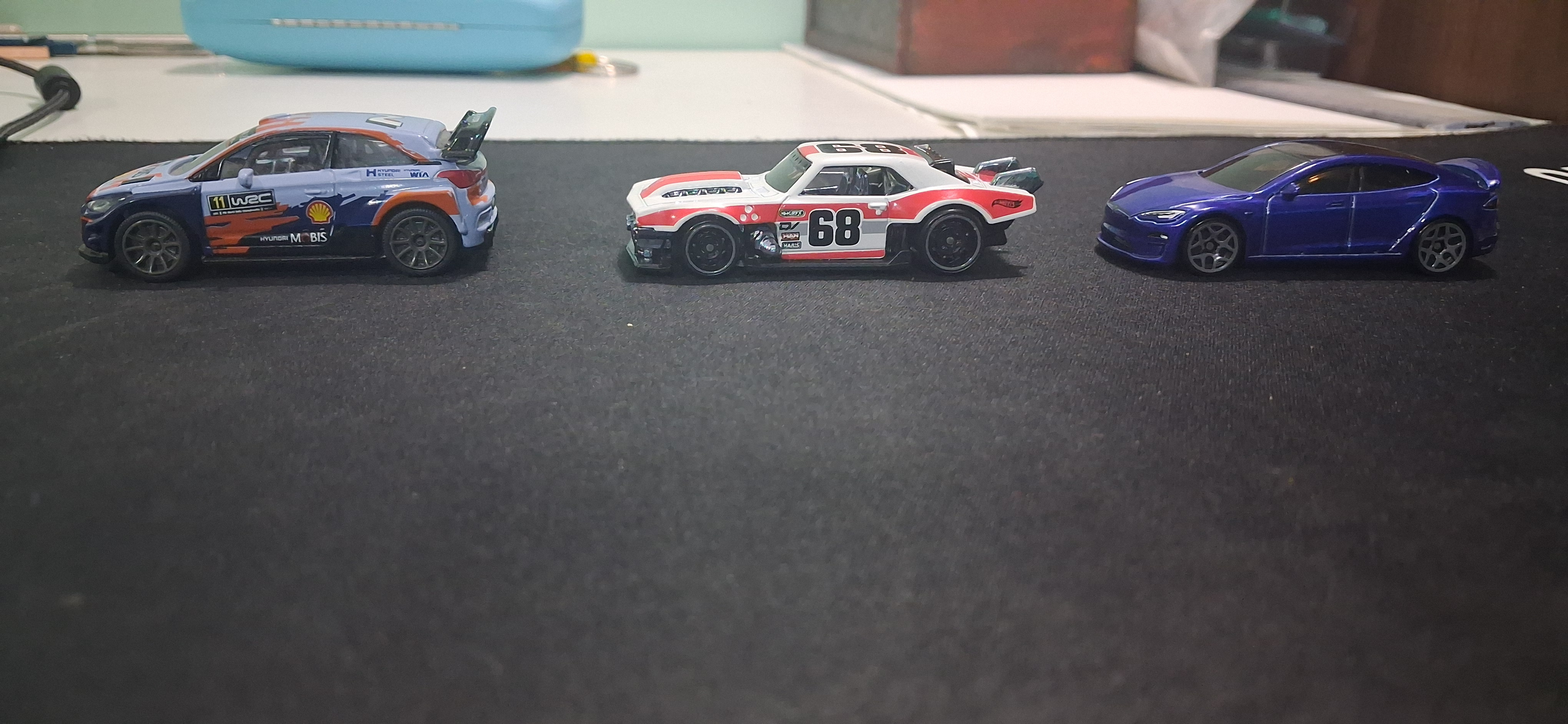Camaro: (606, 136, 1056, 312)
Hyundai_I20_WRC: (12, 71, 532, 302)
Tesla_Model_S_Plaid: (1077, 94, 1519, 310)
